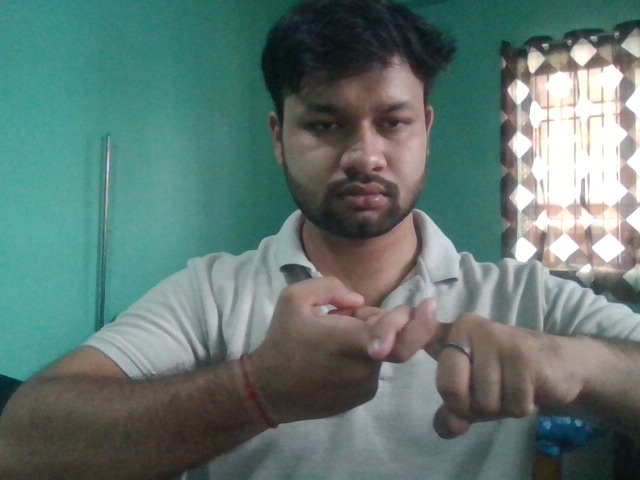Friend: (256, 274, 583, 442)
